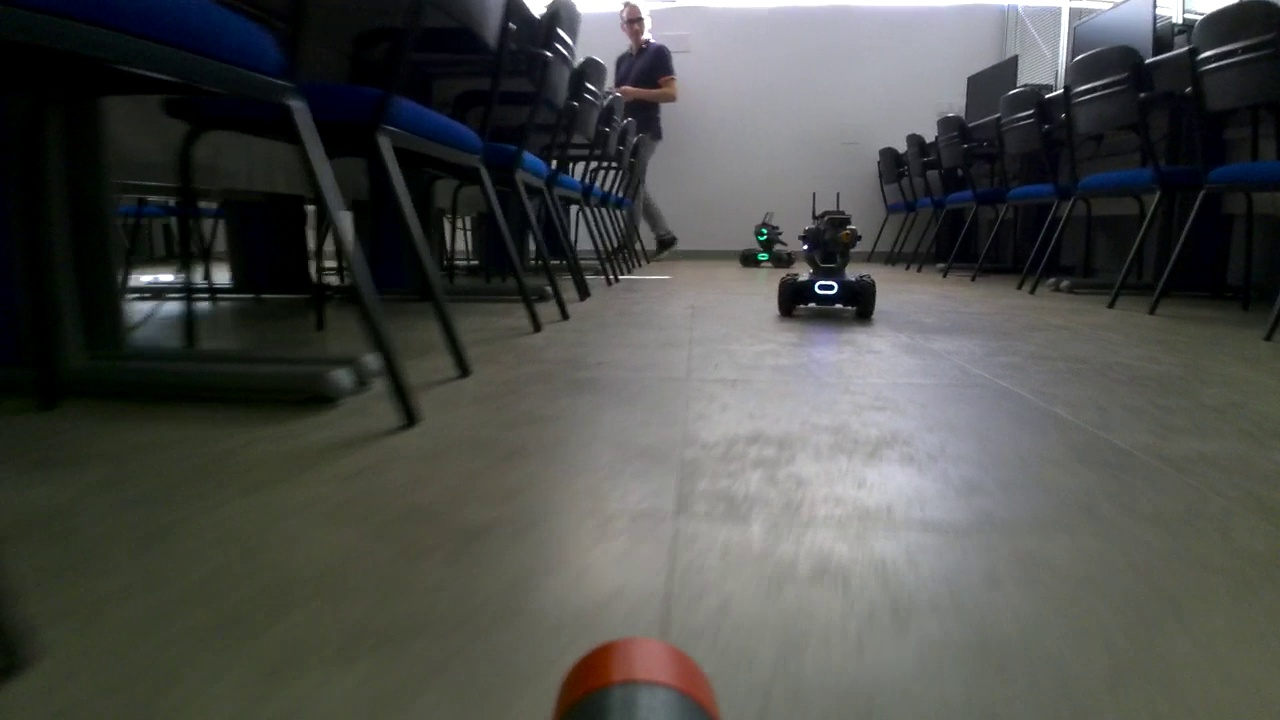robot: (777, 193, 876, 323), (741, 214, 793, 264)
